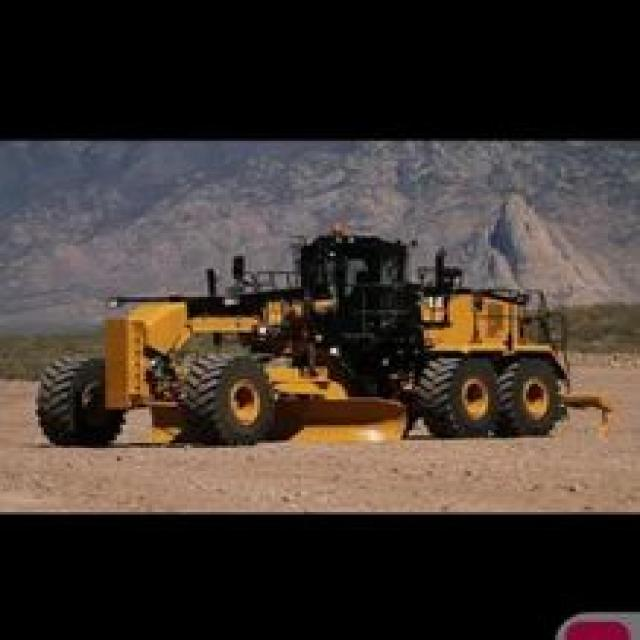buldozerpayloadergrader: (69, 230, 587, 440)
